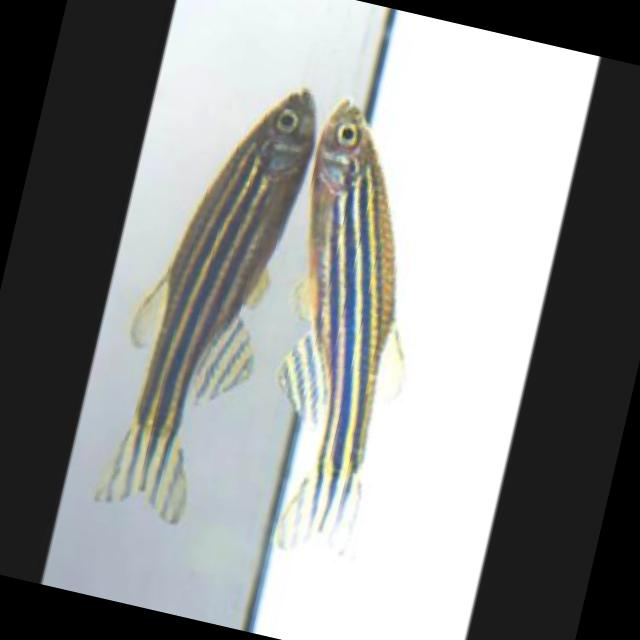ZebraFish: (230, 95, 468, 568)
